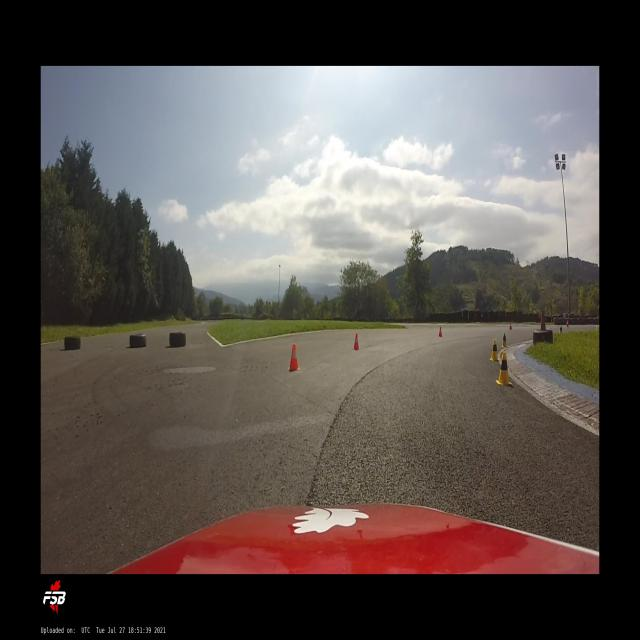orange_cone: (288, 344, 299, 370), (354, 333, 358, 349), (438, 327, 442, 337), (509, 322, 512, 330)
yellow_cone: (495, 352, 512, 385), (490, 338, 499, 361), (502, 333, 507, 347), (560, 325, 562, 333)
